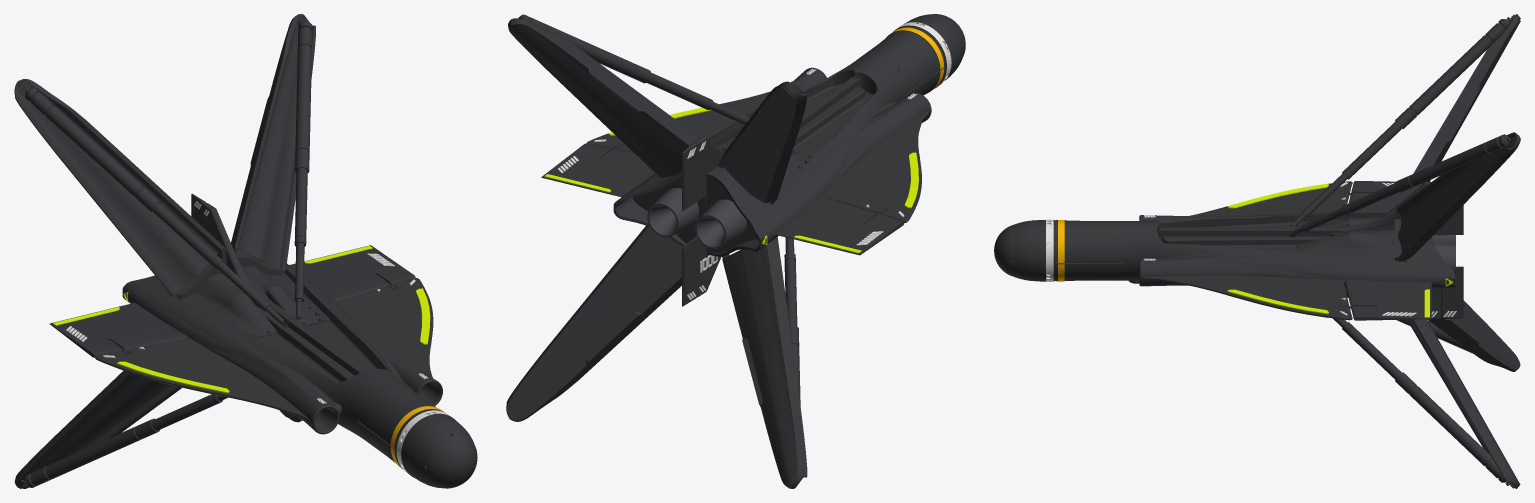
The model's file is roadrunner-v5.glb.
The picture shows the model from 3 angles, left to right: view 1: azimuth 30°, elevation 25°; view 2: azimuth 150°, elevation 25°; view 3: azimuth 270°, elevation 25°; orthographic projection. The views are drawn at different scales.
Parts seen in each view (by area): view 1: Part 5.003, Part 7.001, Part 2.017, Part 1.047, Part 1.051, Part 1.050, Part 4.004, Part 1.053, Part 1.048, Part 13, Part 8.002, Part 1.049 (+1 smaller); view 2: Part 5.003, Part 1-Mirrored, Part 1.051, Part 7.001, Part 1.047, Part 1-Mirrored.001, Part 4.004, Part 8.002, Part 1.053, Part 3.005, Part 1.048, Part 2.015 (+2 smaller); view 3: Part 7.001, Part 5.003, Part 1.047, Part 6.001, Part 1.050, Part 2.015, Part 1.052, Part 1.053, Part 1-Mirrored.001, Part 1.051, Part 3.005, Part 2.014 (+1 smaller).
Boxes of the visible parts, x1=… form: Part 5.003: x1=49, y1=193, x2=385, y2=423; Part 7.001: x1=195, y1=195, x2=442, y2=394; Part 2.017: x1=14, y1=79, x2=224, y2=297; Part 1.047: x1=231, y1=14, x2=315, y2=274; Part 1.051: x1=14, y1=370, x2=181, y2=488; Part 1.050: x1=25, y1=87, x2=284, y2=323; Part 4.004: x1=357, y1=382, x2=452, y2=467; Part 1.053: x1=294, y1=21, x2=312, y2=319; Part 1.048: x1=25, y1=394, x2=227, y2=487; Part 13: x1=428, y1=435, x2=477, y2=488; Part 8.002: x1=50, y1=293, x2=364, y2=439; Part 1.049: x1=357, y1=421, x2=442, y2=488; Part 5.003: x1=682, y1=57, x2=931, y2=254; Part 1-Mirrored: x1=507, y1=227, x2=682, y2=421; Part 1.051: x1=722, y1=237, x2=807, y2=488; Part 7.001: x1=541, y1=56, x2=874, y2=224; Part 1.047: x1=508, y1=18, x2=699, y2=177; Part 1-Mirrored.001: x1=718, y1=86, x2=805, y2=203; Part 4.004: x1=876, y1=14, x2=965, y2=94; Part 8.002: x1=682, y1=96, x2=931, y2=306; Part 1.053: x1=518, y1=14, x2=750, y2=124; Part 3.005: x1=541, y1=177, x2=702, y2=306; Part 1.048: x1=784, y1=237, x2=800, y2=405; Part 2.015: x1=506, y1=225, x2=649, y2=415; Part 7.001: x1=1125, y1=183, x2=1463, y2=319; Part 5.003: x1=1125, y1=181, x2=1455, y2=244; Part 1.047: x1=1396, y1=132, x2=1520, y2=262; Part 6.001: x1=1010, y1=222, x2=1125, y2=263; Part 1.050: x1=1290, y1=19, x2=1509, y2=226; Part 2.015: x1=1407, y1=319, x2=1519, y2=488; Part 1.052: x1=1333, y1=318, x2=1505, y2=482; Part 1.053: x1=1290, y1=134, x2=1509, y2=235; Part 1-Mirrored.001: x1=1396, y1=20, x2=1520, y2=205; Part 1.051: x1=1428, y1=300, x2=1520, y2=371; Part 3.005: x1=1125, y1=263, x2=1463, y2=320; Part 2.014: x1=1010, y1=261, x2=1125, y2=281.
Size of the model in its own units: 0.13 by 0.1574 by 0.2108.
